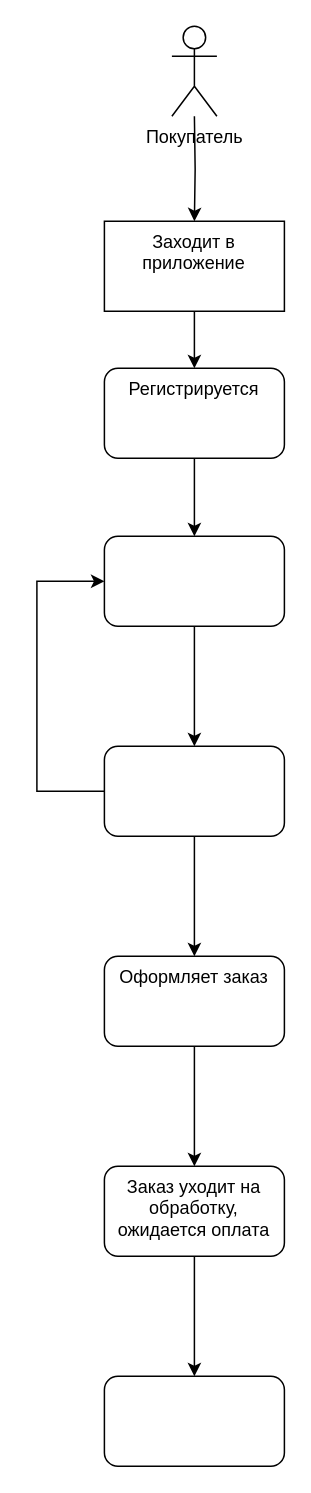
This 311x1493 diagram has some shape labels left out. Here are the shapes that lost their labels. From the top down, the centre of each, then its label:
the point at 193,580: Смотрит каталог, выбирает товар
the point at 193,790: Добавляет в корзину
the point at 193,1420: Оплата прошла, заказ исполняется, отображается инф.
